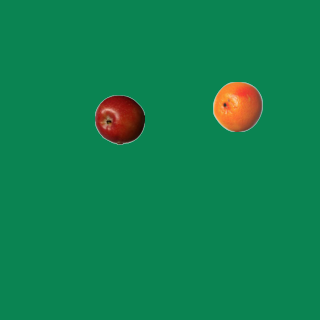Apple Braeburn: (94, 94, 144, 144)
Grapefruit Pink: (212, 81, 262, 131)
